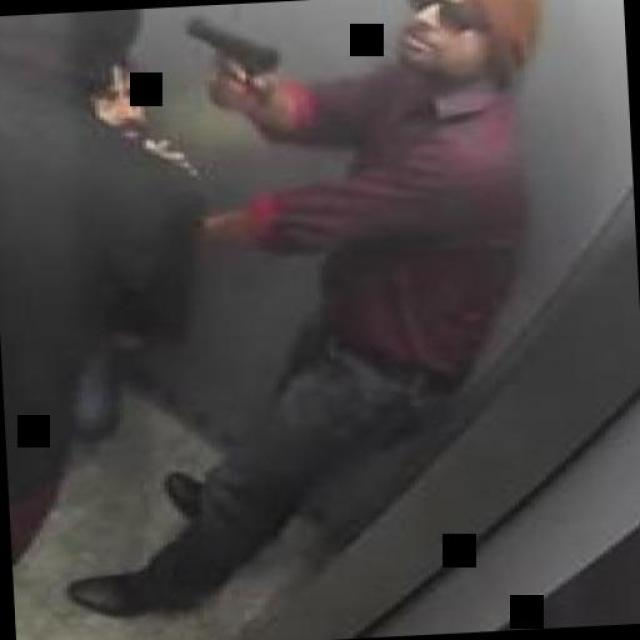gun: (177, 12, 285, 112)
